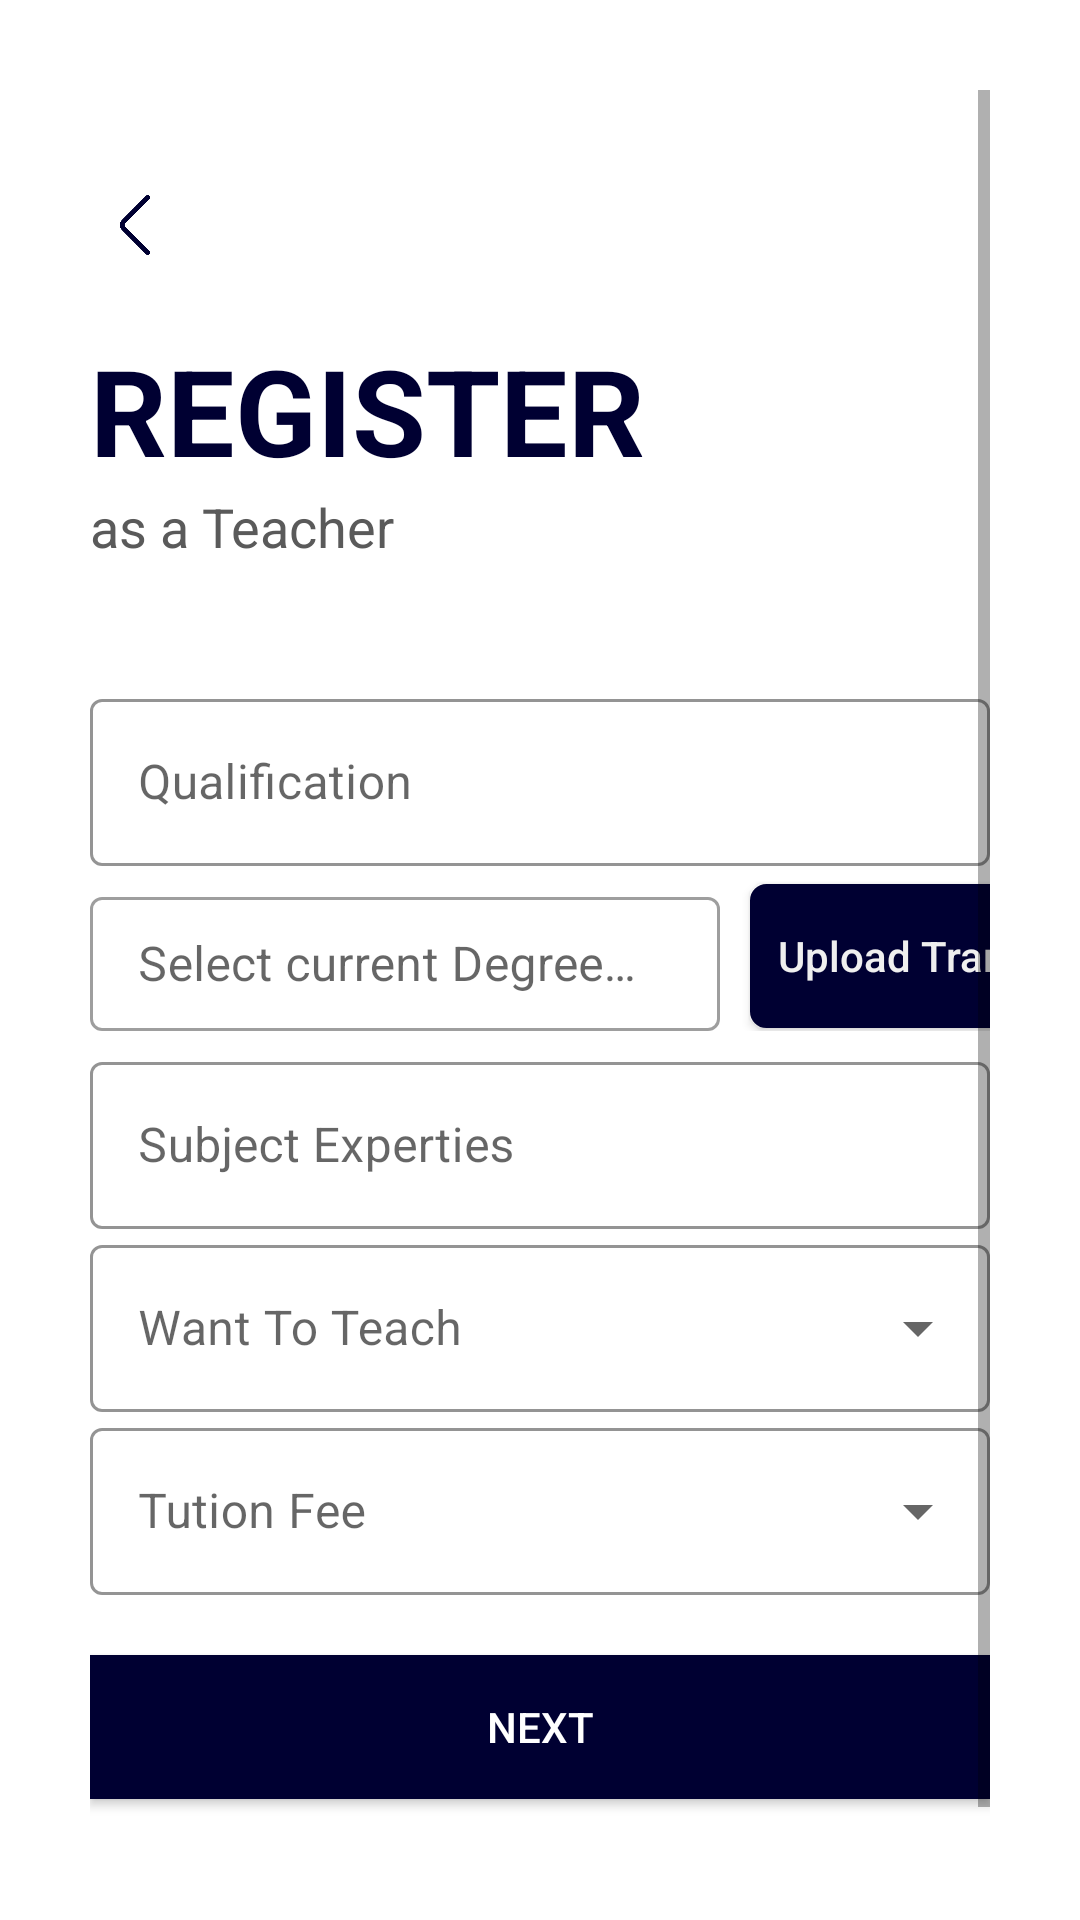

Screen size 1080 x 1920. Icon name, then its center in pixels as (x=x, y=y):
leftarrow: (x=135, y=225)
